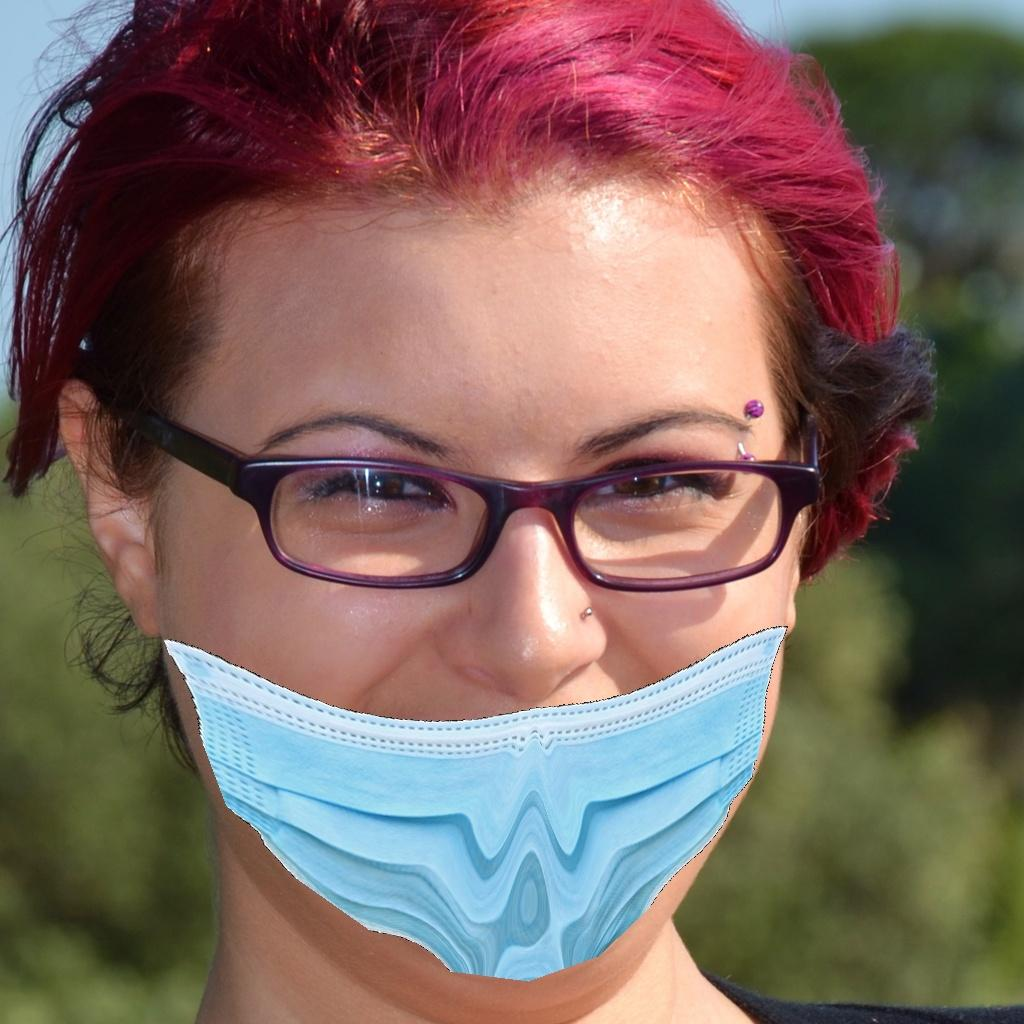Máscara Incorreta: (126, 246, 794, 958)
